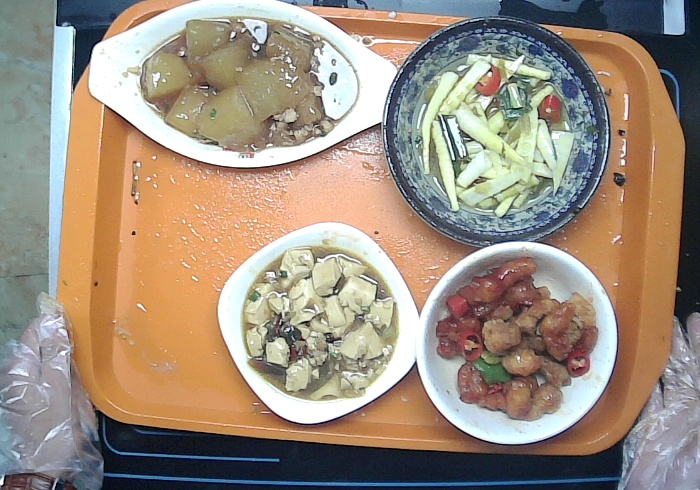ZNLD-Qing_Hua_Wan: (380, 15, 612, 248)
ZNLD-Si_Fang_Wan: (215, 220, 420, 425)
ZNLD-Tang_Wan: (413, 240, 620, 446)
ZNLD-Yu_Pan: (86, 1, 399, 169)
